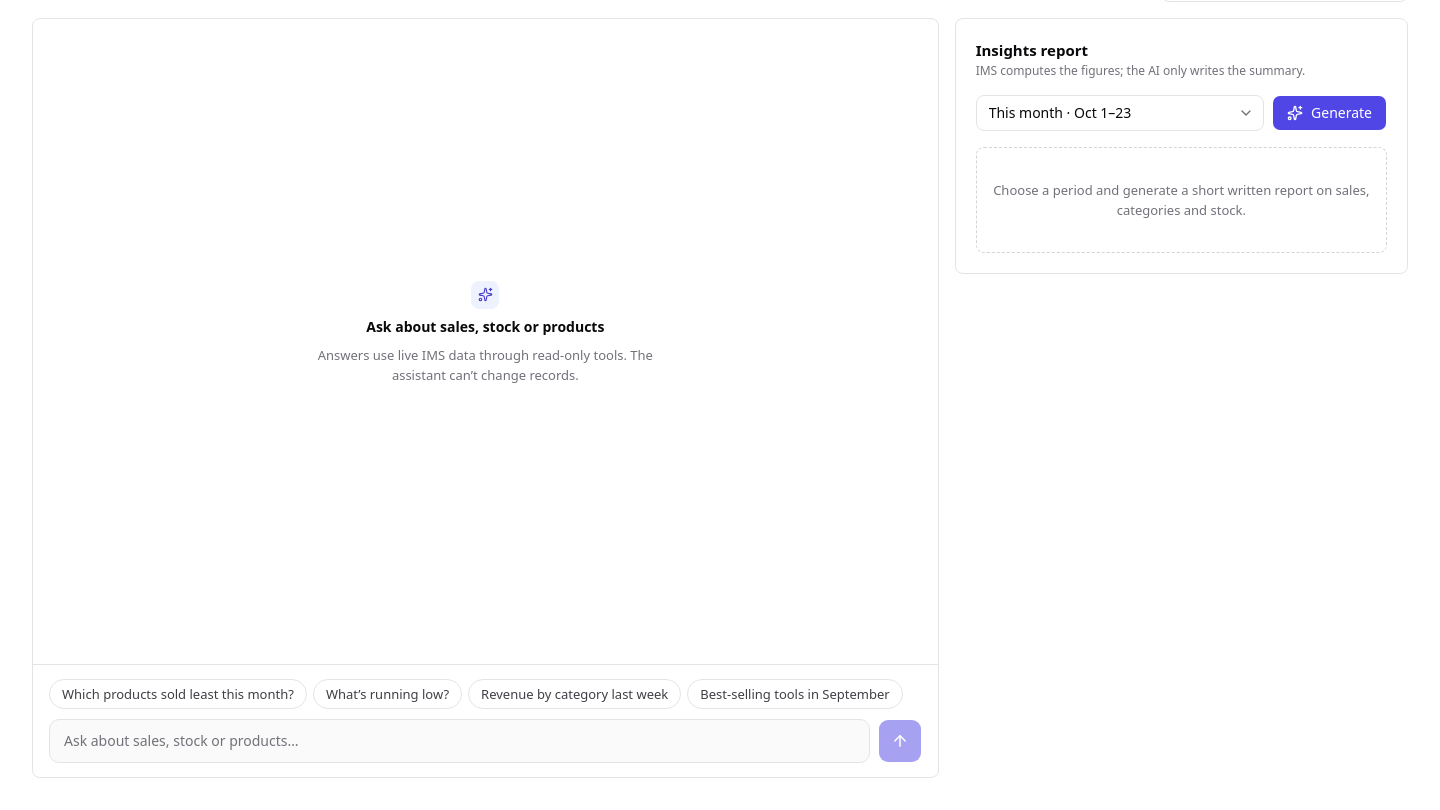
Test case: AssistantPage (M8) › shows the hourly limit and refreshes the quota after RATE_LIMITED
(page scrolled)
In the text box labelled "Ask about sales, stock or products…": (459, 741) [49,719,870,763], type "One more?"
Then press Enter
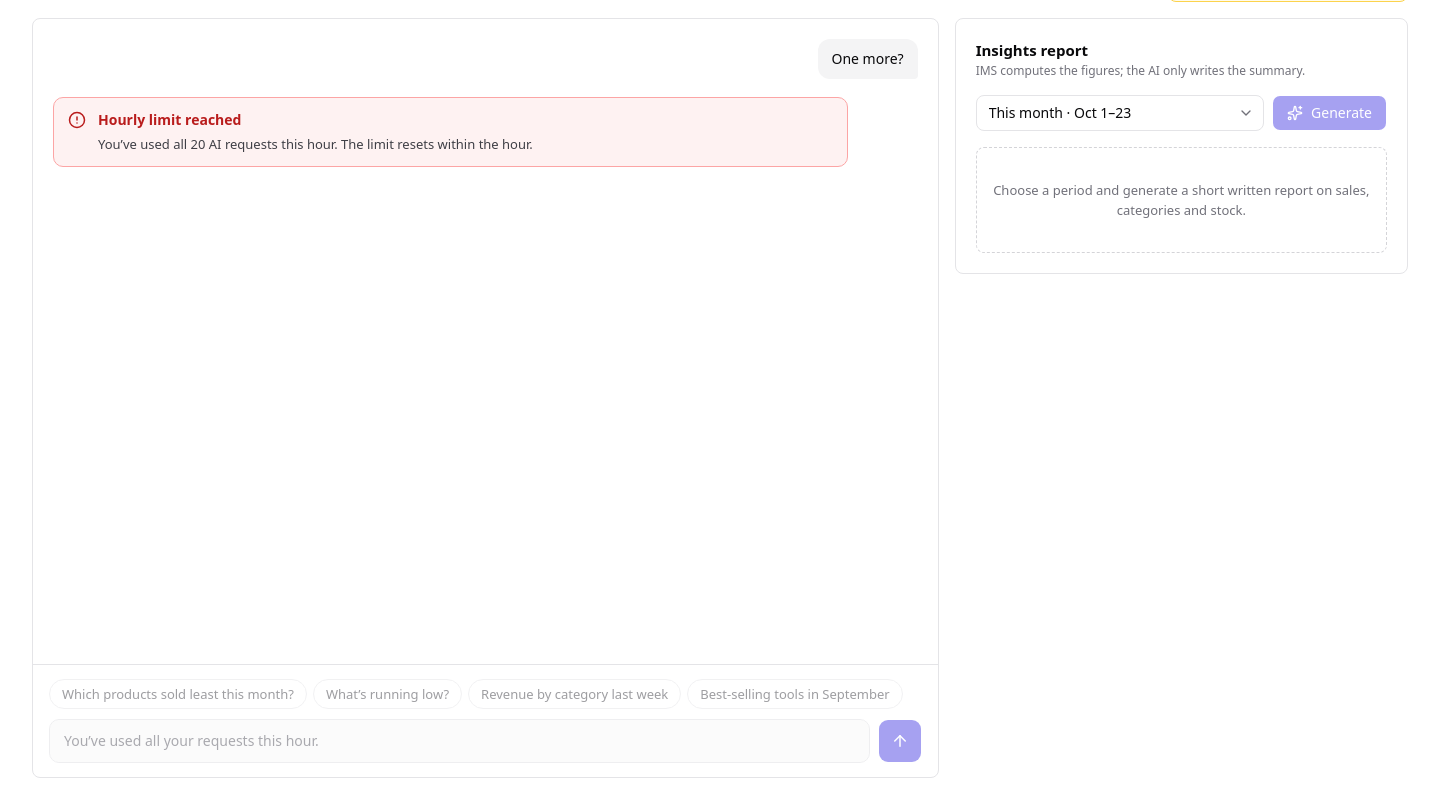
expect the message shows "Hourly limit reached": met, box [98,110,241,129]
expect the message shows "You’ve used all 20 AI requests this hour.": met, box [98,135,533,153]
expect the text box named "ask about sales" is disabled: met, box [49,719,870,763]
